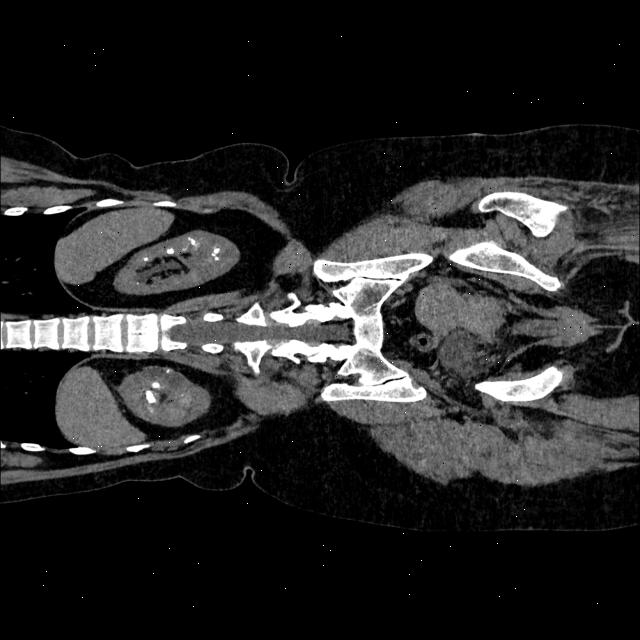kidneystone: (145, 389, 156, 402)
